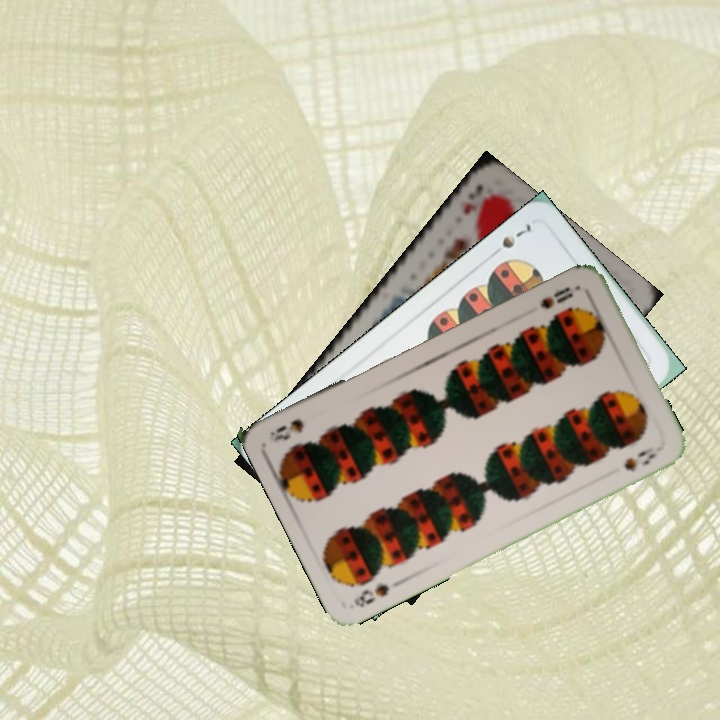HK: (458, 179, 486, 217)
S7: (486, 220, 534, 260)
S8: (349, 575, 405, 610), (536, 282, 576, 312)
